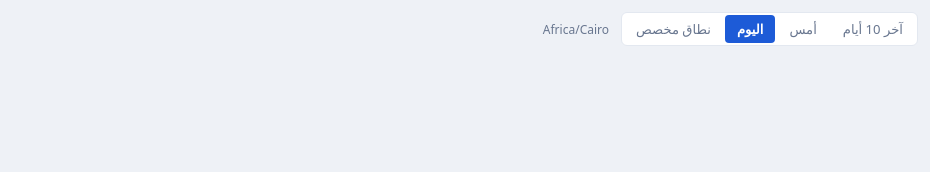
it: PeriodSelector draft/apply (R07) › clicking Custom reveals inputs without requesting
Click the button "نطاق مخصص".
click(673, 29)  # box [624,15,723,43]
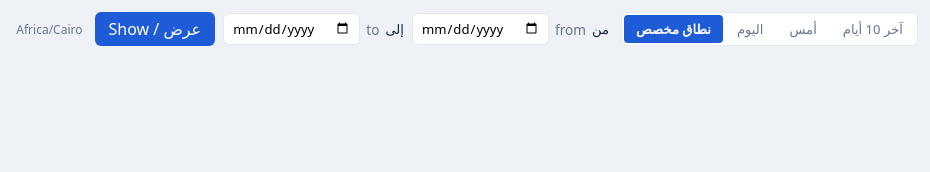
Expected: the date field labelled "من from" is shown, [412,13,549,45]
